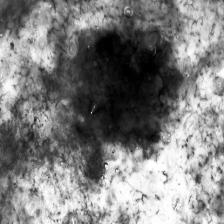Benign Marking or Mole: (71, 20, 184, 184)
